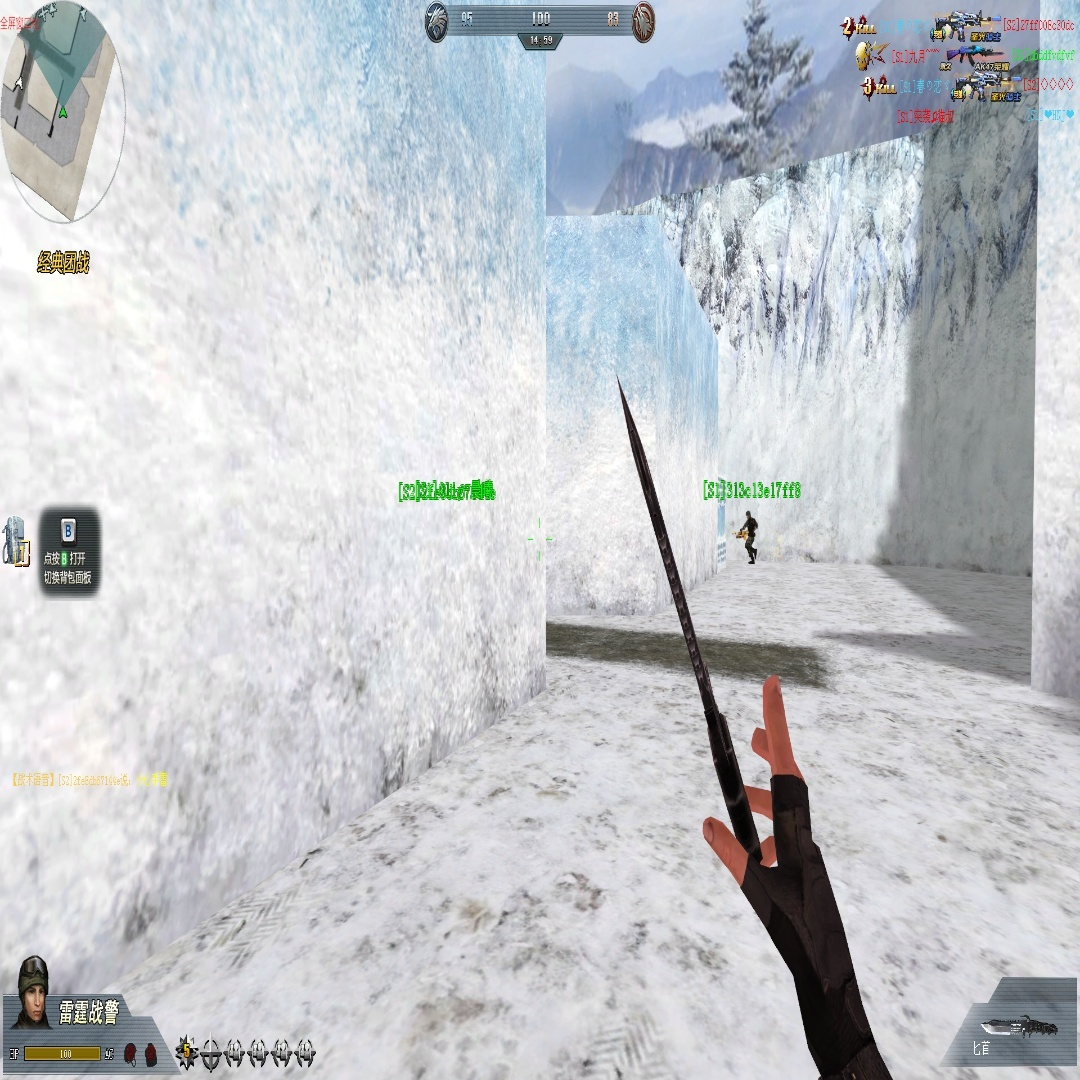ct: (735, 509, 758, 564)
